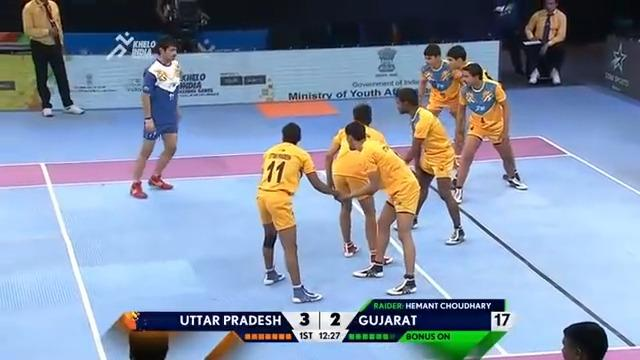Player: (255, 121, 342, 303), (331, 120, 421, 295), (391, 87, 466, 245), (449, 61, 528, 203), (20, 0, 85, 117), (416, 42, 465, 169)
Raider: (129, 35, 183, 199)
referee: (523, 0, 567, 85)
